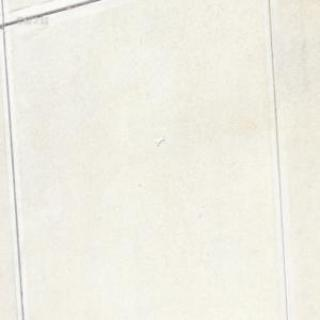Wrenchtrack_idkeyframe: (154, 135, 164, 146)
